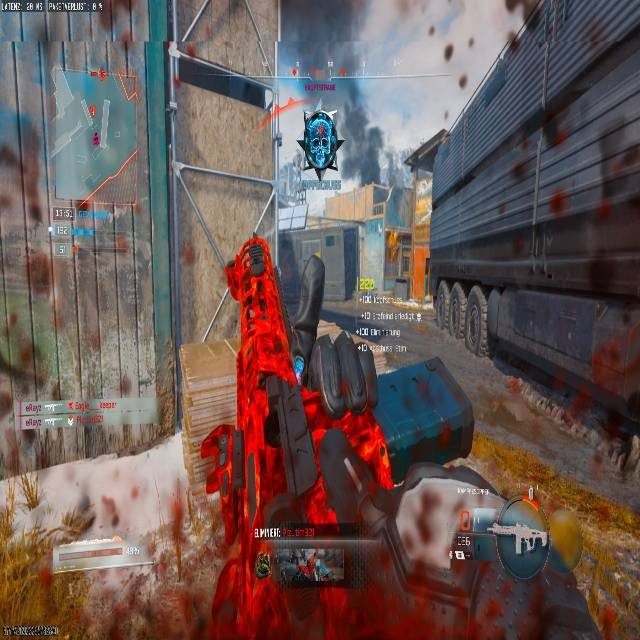player: (298, 109, 340, 180)
